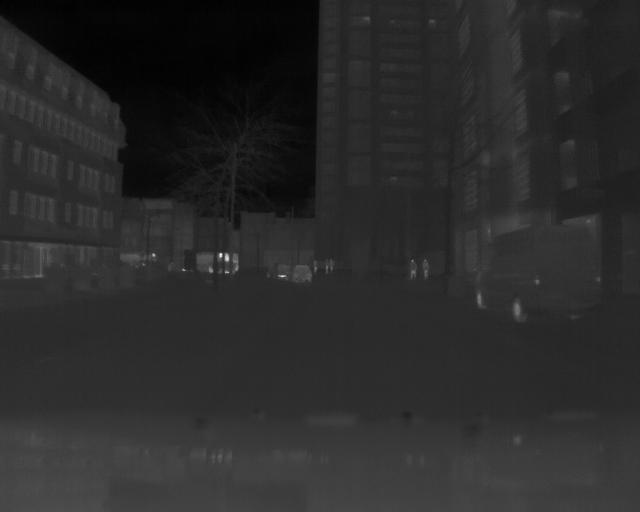car: (469, 223, 605, 326), (287, 264, 314, 287), (264, 261, 294, 279)
person: (409, 257, 419, 282), (422, 257, 431, 283)
